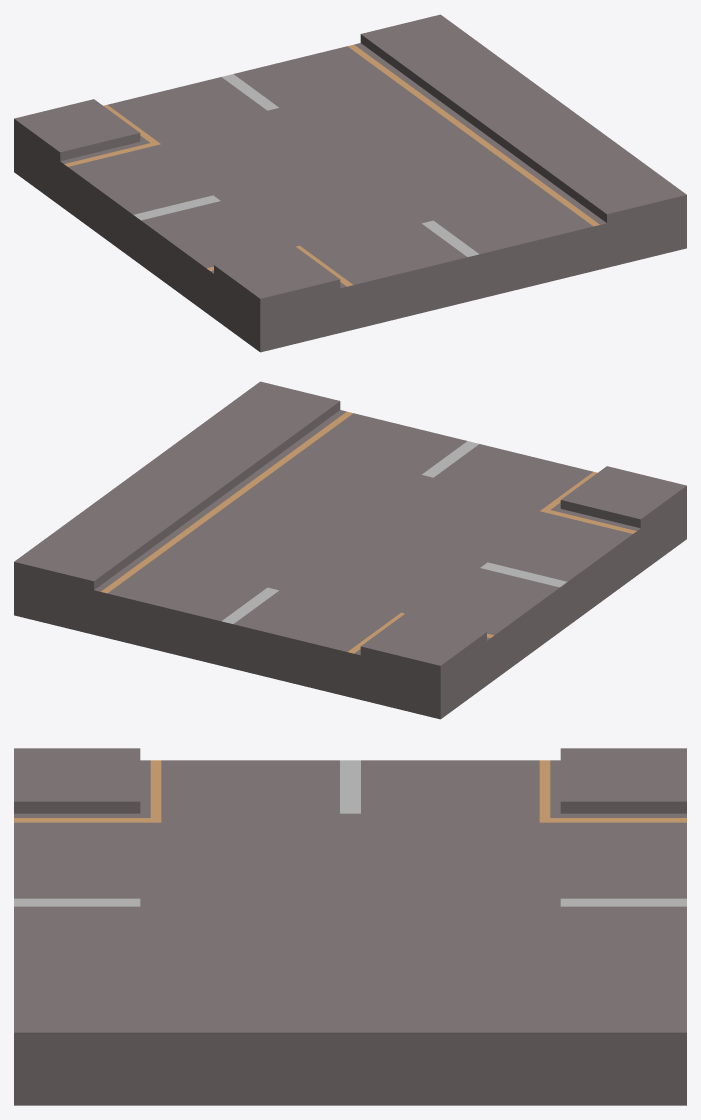
Rendered from Road T Section.fbx.
3 renders of one model, top to bottom at view 1: azimuth 30°, elevation 25°; view 2: azimuth 150°, elevation 25°; view 3: azimuth 270°, elevation 25°, orthographic. The views are drawn at different scales.
Parts seen in each view (by area): view 1: RoadT; view 2: RoadT; view 3: RoadT.
Boxes of the visible parts, x1=… form: RoadT: x1=14, y1=14, x2=686, y2=352; RoadT: x1=14, y1=381, x2=686, y2=719; RoadT: x1=14, y1=748, x2=686, y2=1105.
Size of the model in its own units: 10 by 1.2 by 10.
